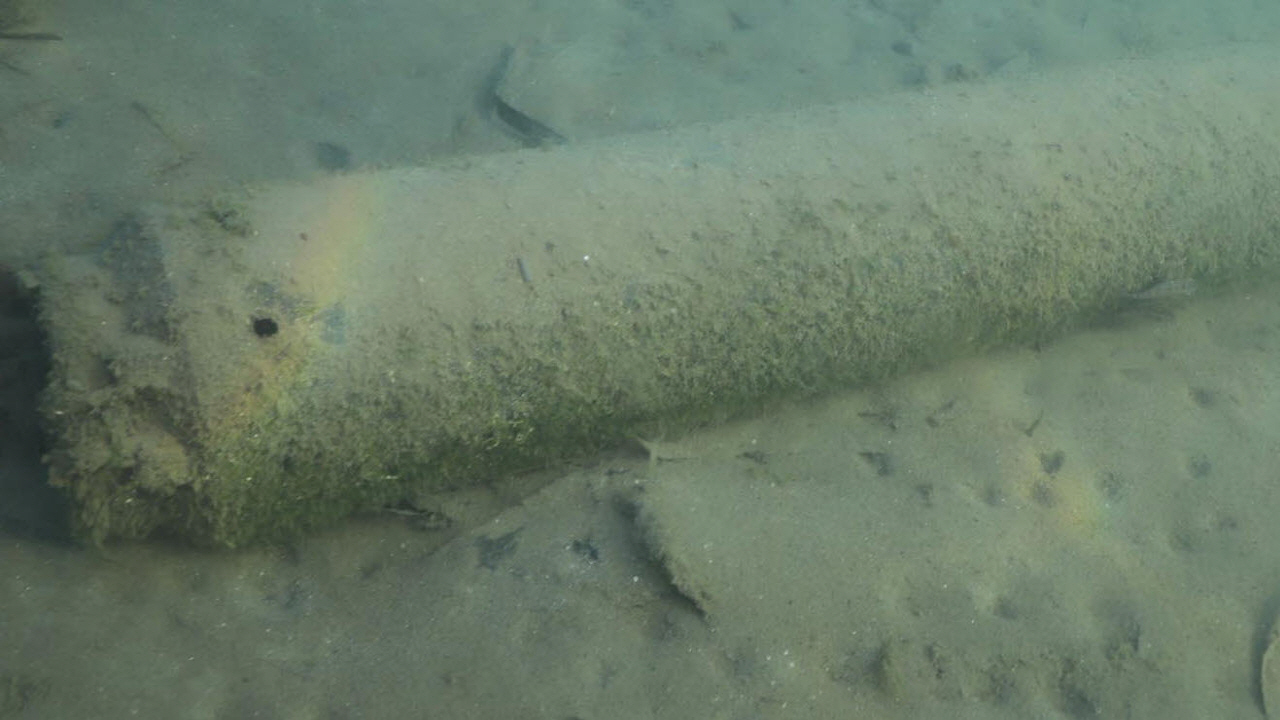eel fish trap: (13, 39, 1280, 550)
